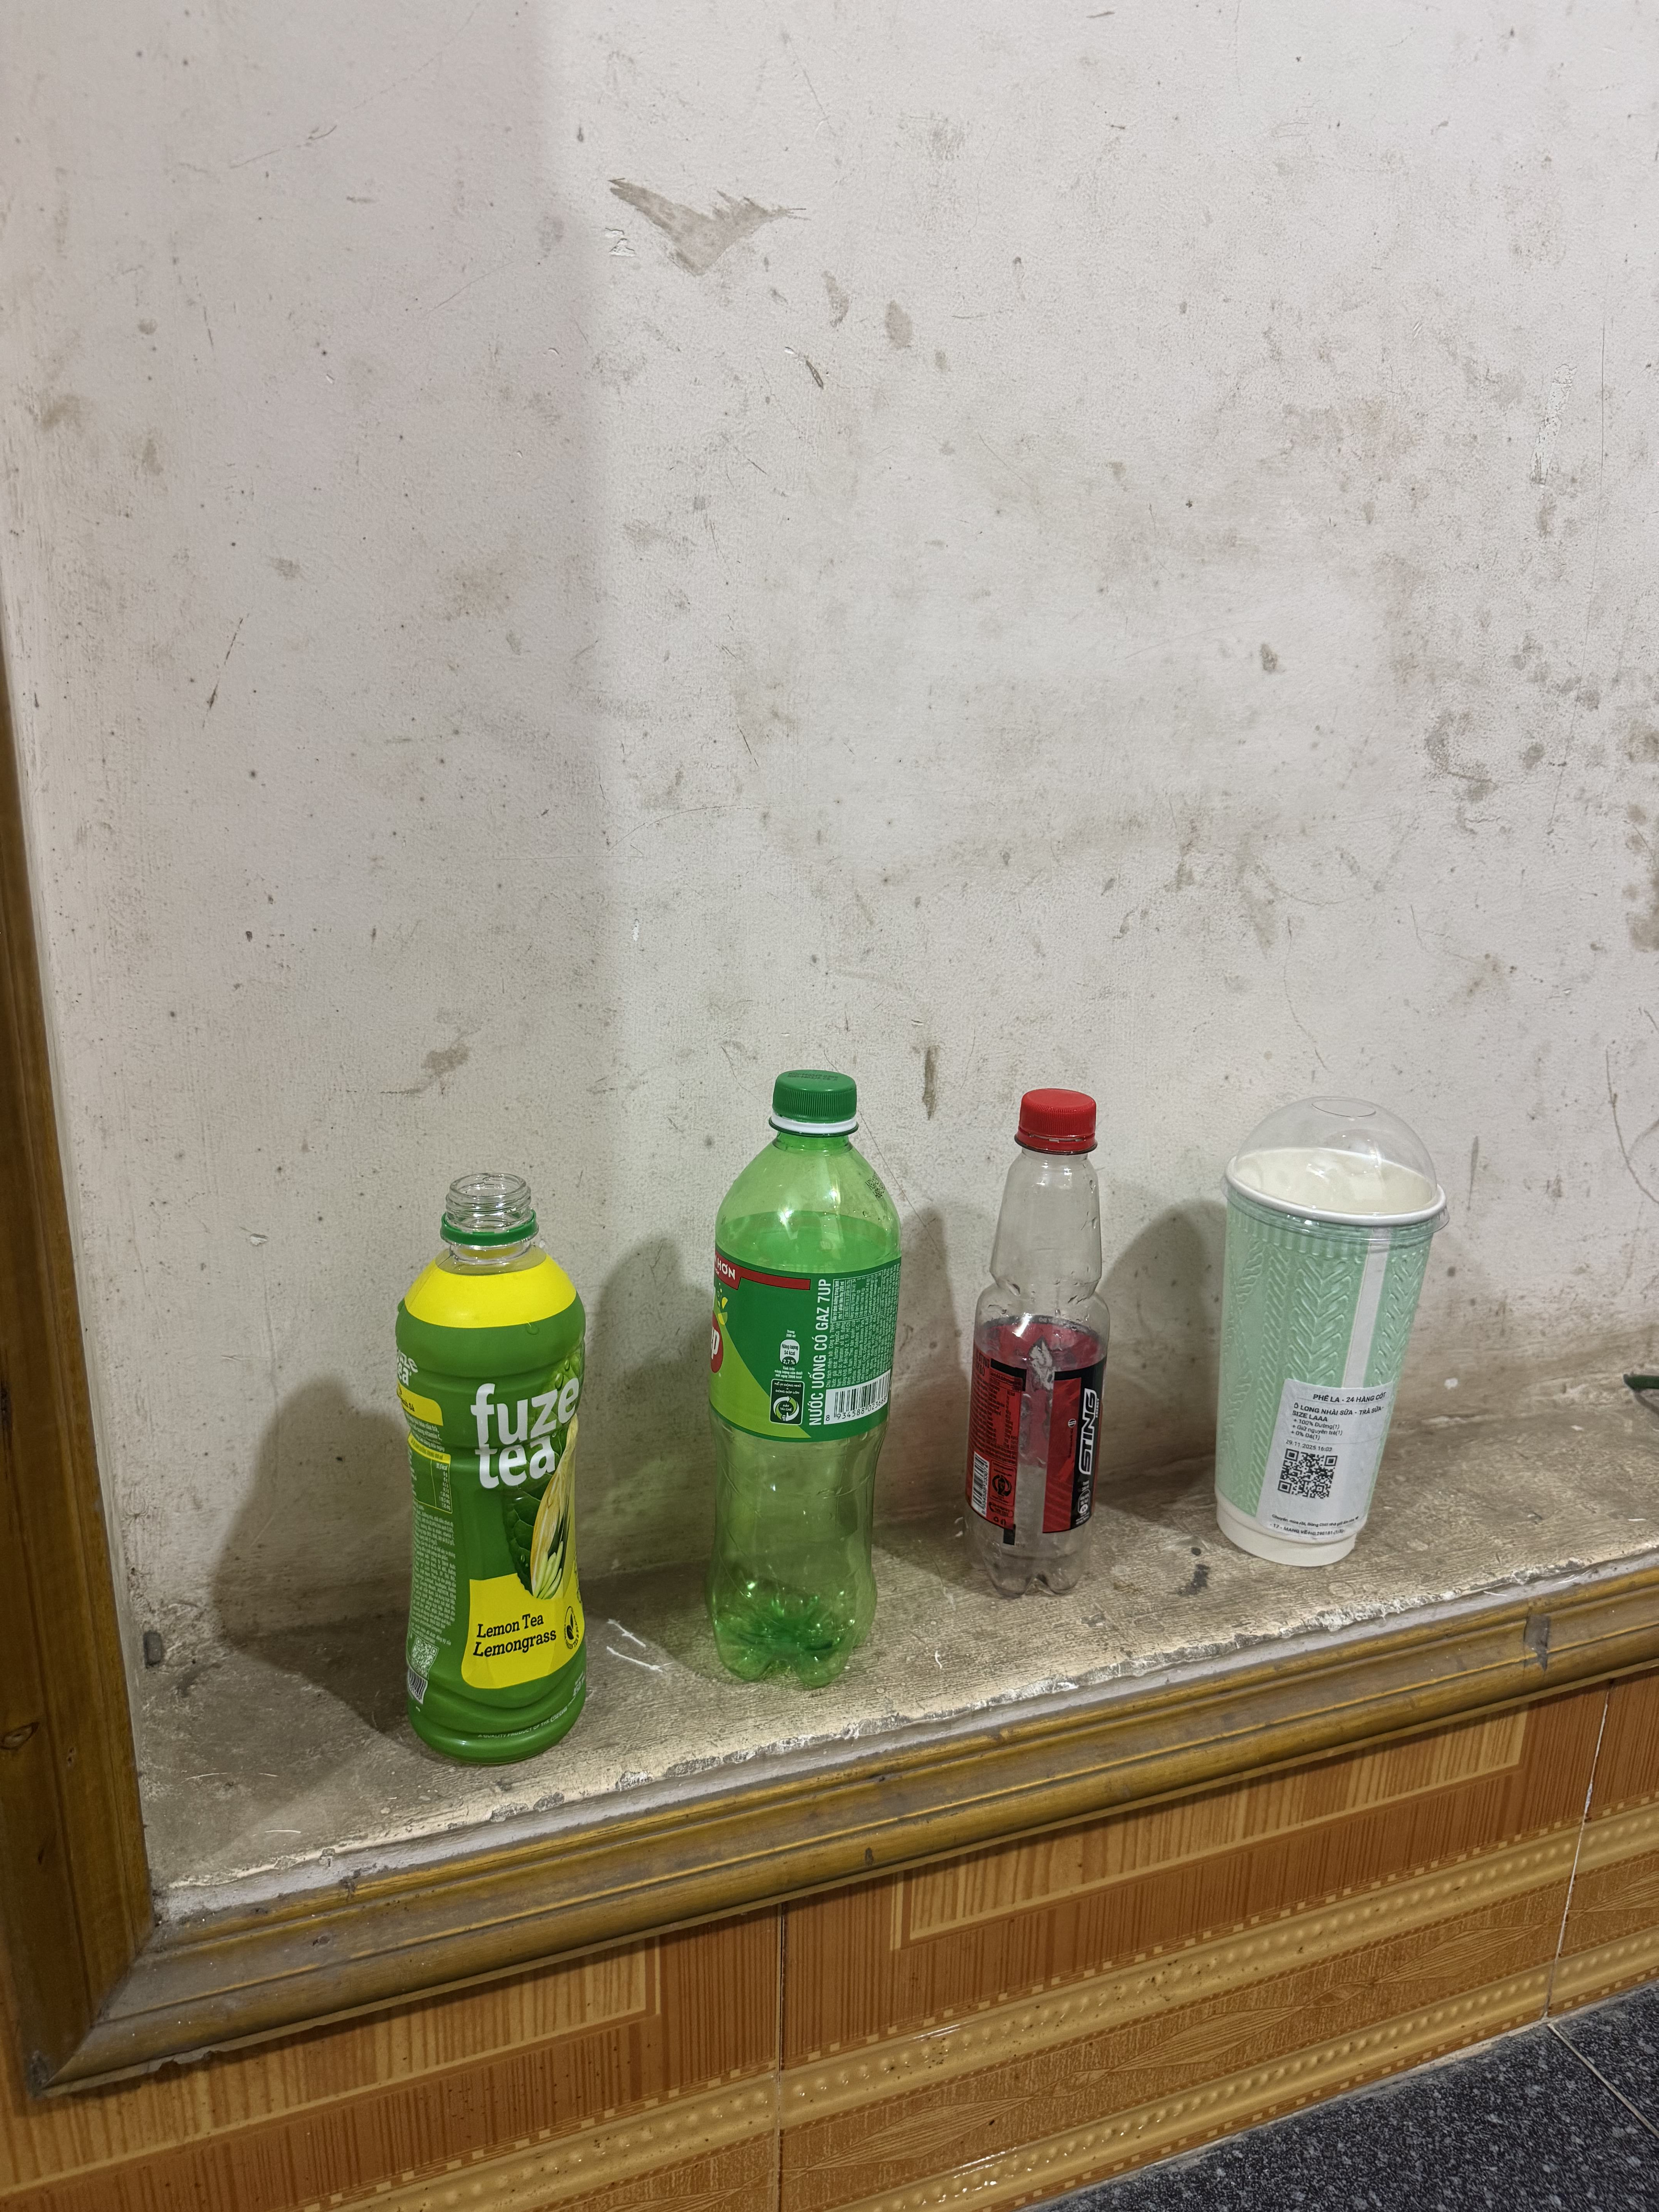2: (1192, 1082, 1464, 1623)
bottle: (685, 1049, 918, 1703), (376, 1150, 613, 1784), (948, 1057, 1145, 1639)
